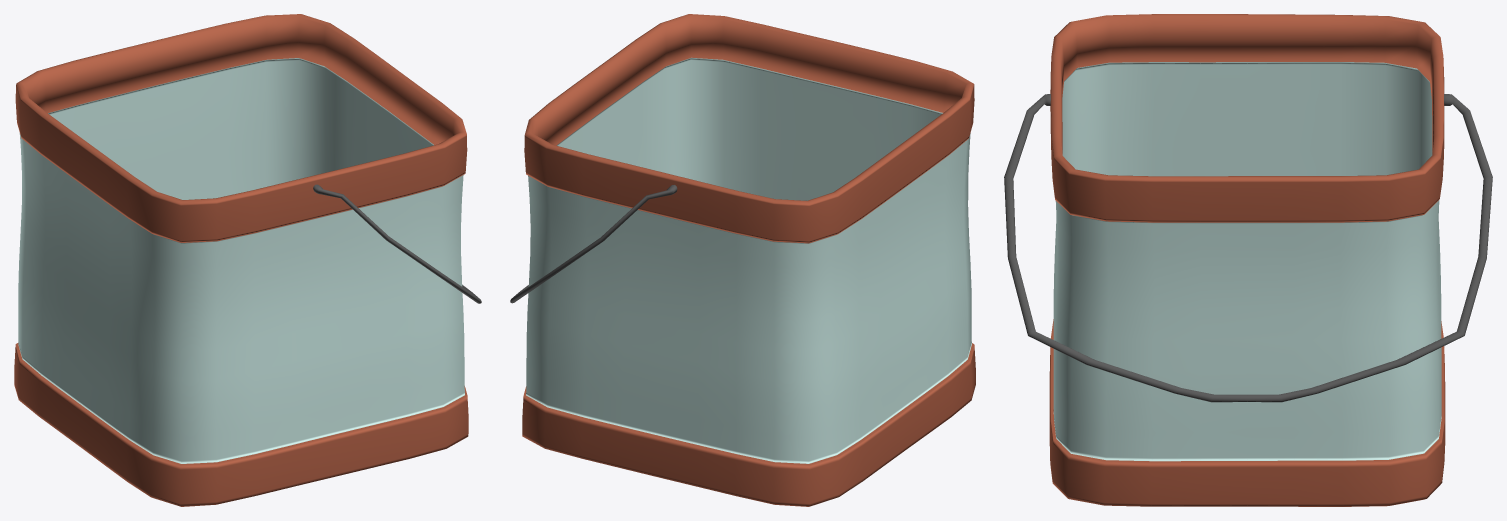
The model's file is FloorLantern.fbx.
The picture shows the model from 3 angles, left to right: view 1: azimuth 30°, elevation 25°; view 2: azimuth 150°, elevation 25°; view 3: azimuth 270°, elevation 25°; orthographic projection. The views are drawn at different scales.
Parts seen in each view (by area): view 1: Cylinder; view 2: Cylinder; view 3: Cylinder.
Boxes of the visible parts, box(x1,y1,x2,y2) form: Cylinder: box(14, 14, 481, 506); Cylinder: box(510, 14, 975, 506); Cylinder: box(1004, 14, 1492, 506).
Size of the model in its own units: 27.88 by 23.92 by 32.06.
